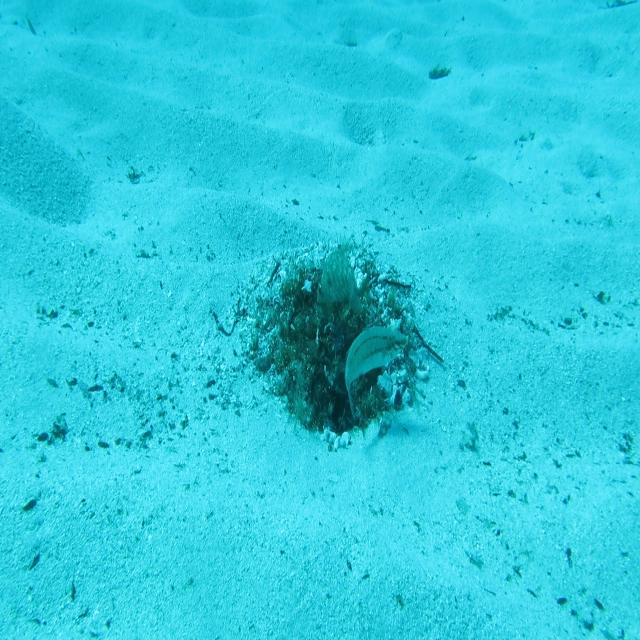NIP_CORE: (315, 243, 364, 317)
core_nest: (309, 283, 351, 337)
female: (343, 324, 411, 424)
nest: (228, 234, 434, 469)
vegetation: (424, 65, 454, 83)
